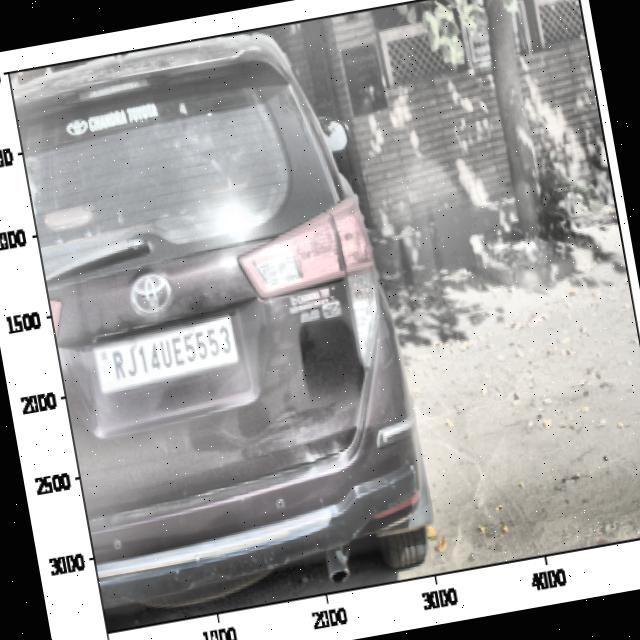license_plate: (100, 319, 242, 390)
